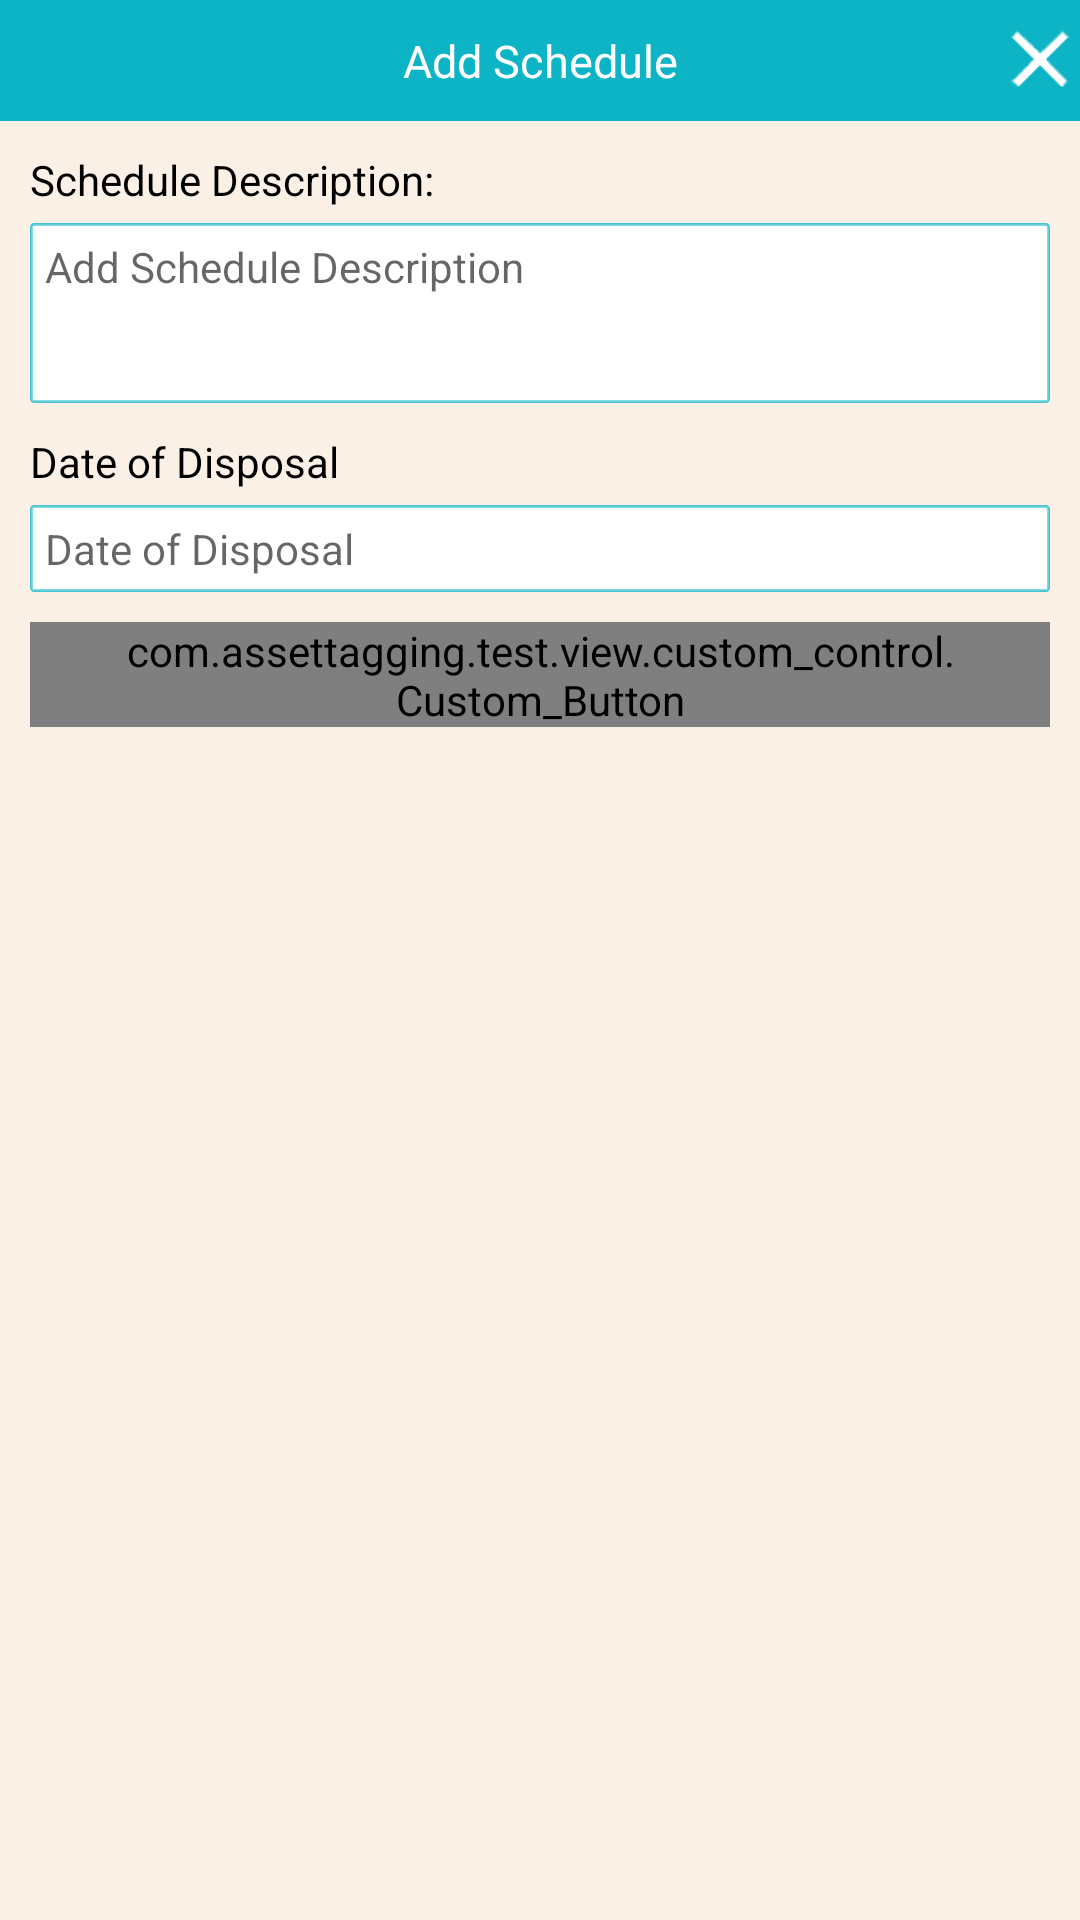

Icons on this 1080x1920 Android screen, each with the point to tap as [x,y]:
close: [1040,58]
